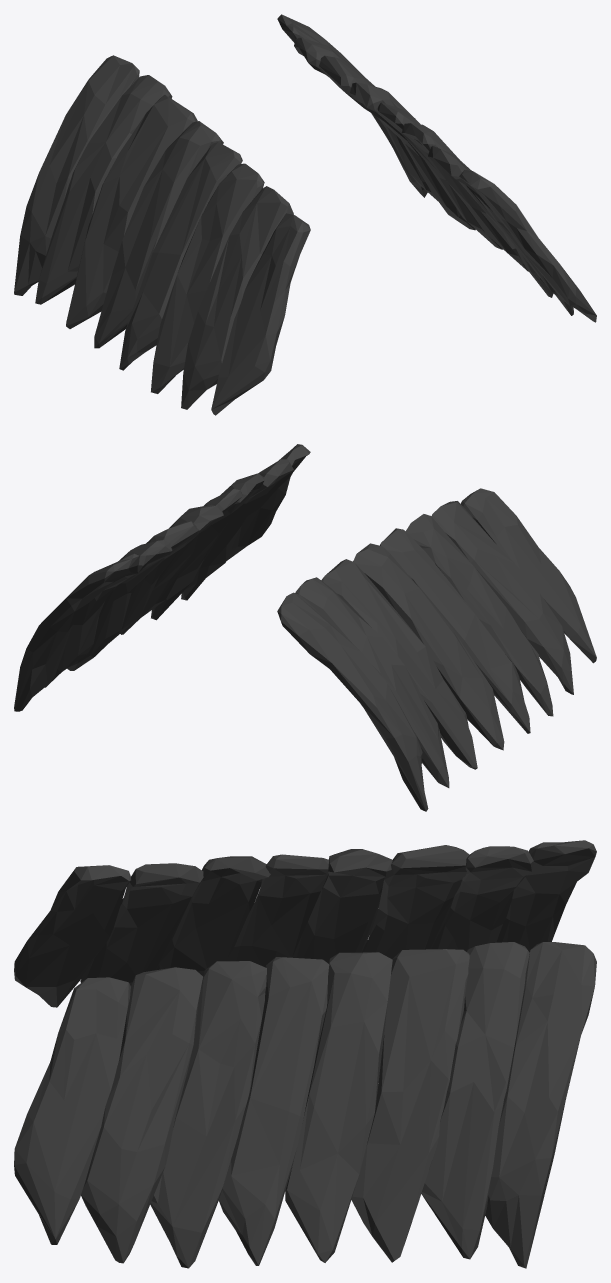
Rendered from m_serratus_dorsalis_caudalis.glb.
3 renders of one model, top to bottom at view 1: azimuth 30°, elevation 25°; view 2: azimuth 150°, elevation 25°; view 3: azimuth 270°, elevation 25°, orthographic. The views are drawn at different scales.
Visible parts, largest first — view 1: m_serratus_dorsalis_caudalis; view 2: m_serratus_dorsalis_caudalis; view 3: m_serratus_dorsalis_caudalis.
Part boxes in pixels (x1,y1,x2,y2): m_serratus_dorsalis_caudalis: [14, 14, 596, 415]; m_serratus_dorsalis_caudalis: [14, 444, 596, 811]; m_serratus_dorsalis_caudalis: [14, 840, 596, 1268].
Size of the model in its own units: 0.00622 by 0.00282 by 0.00592.
1 material, 1 textured.
